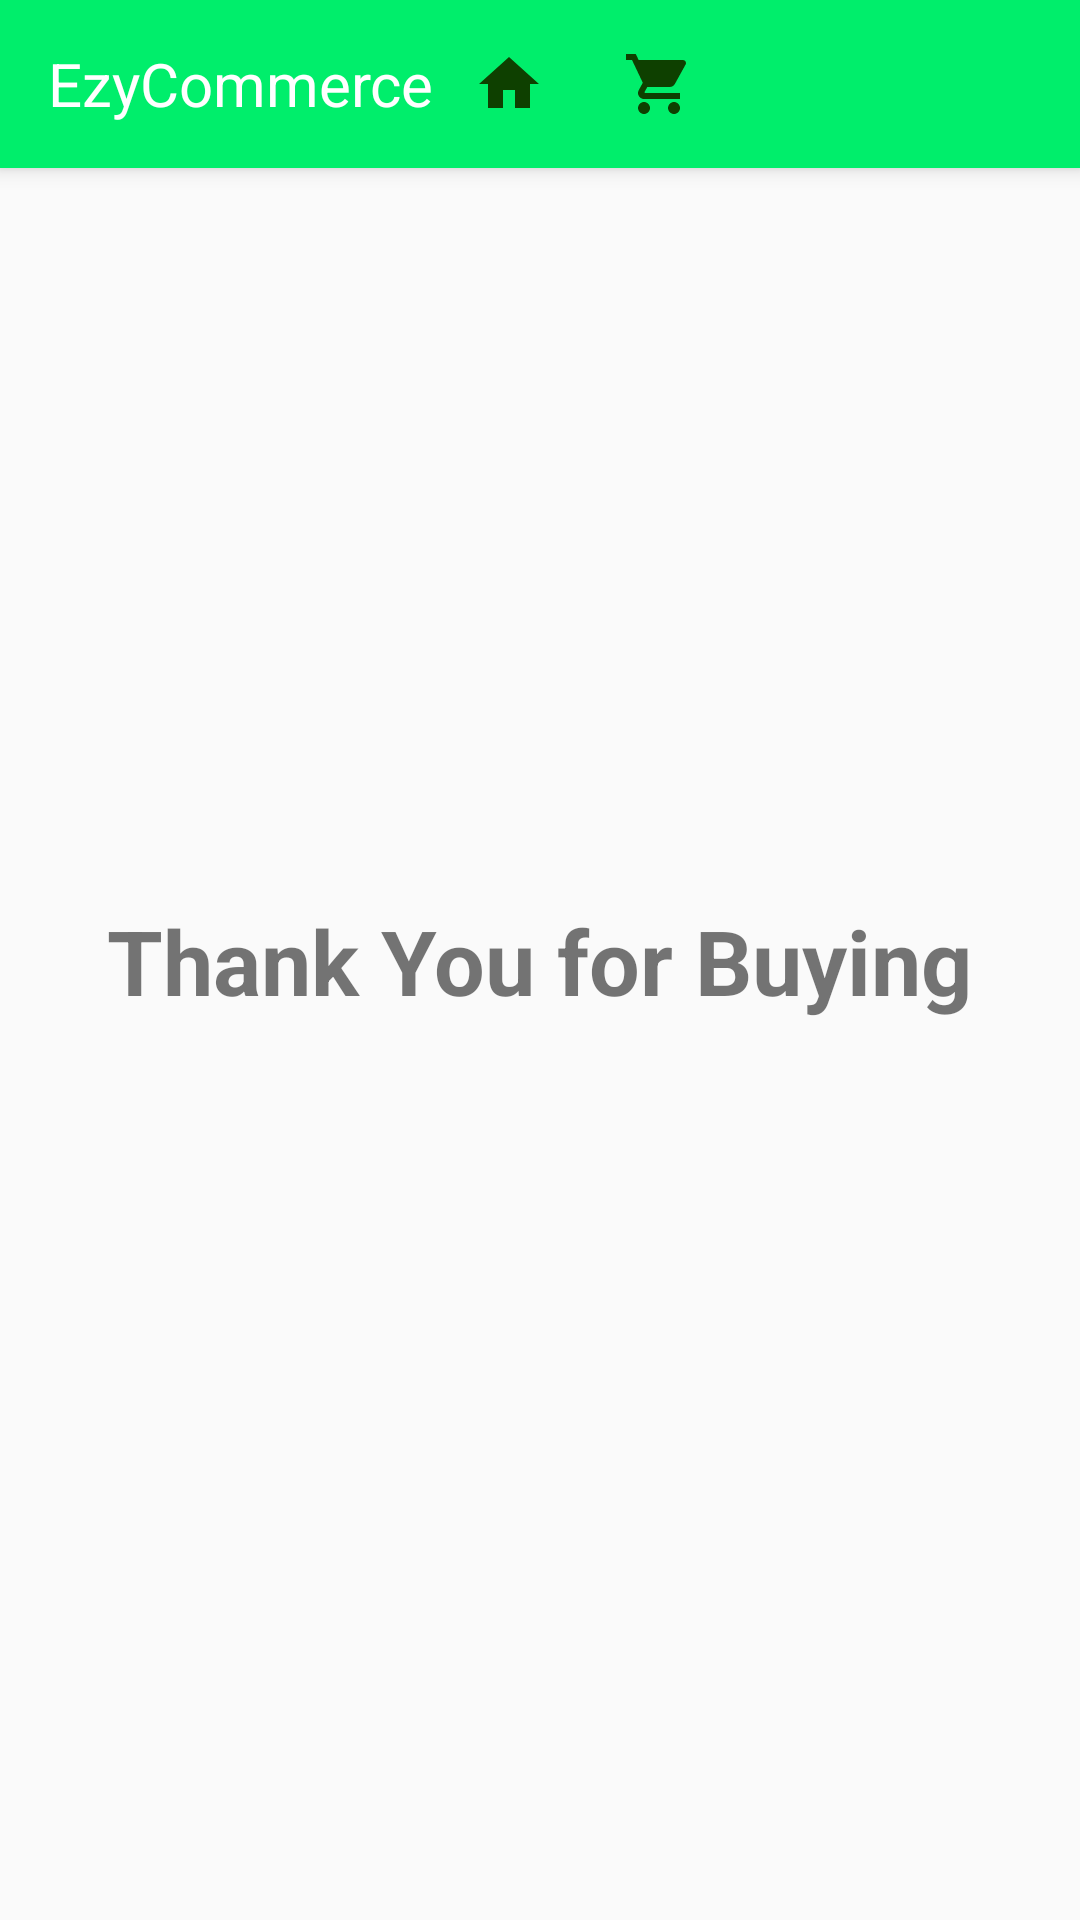

Point at icon controls on the screen. Image size 1080*1920, points as point (x, y).
cart: point (656, 84)
home: point (509, 82)
